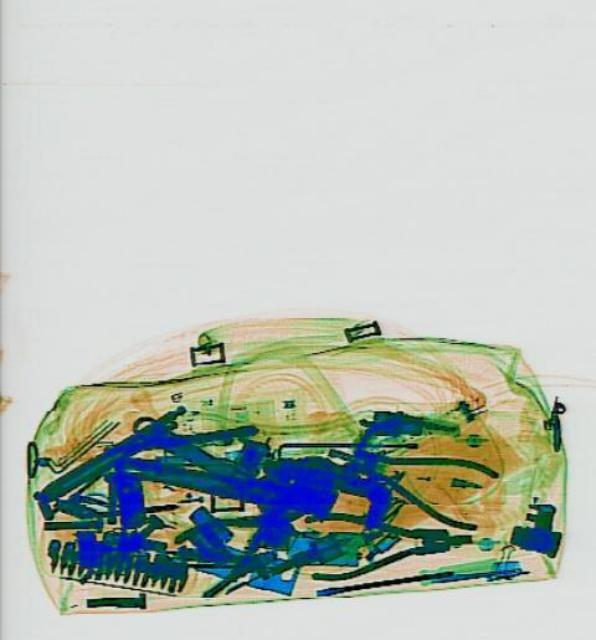Pliers: (316, 416, 499, 534), (167, 474, 315, 596), (299, 504, 468, 580)
Wrench: (123, 392, 316, 532)
